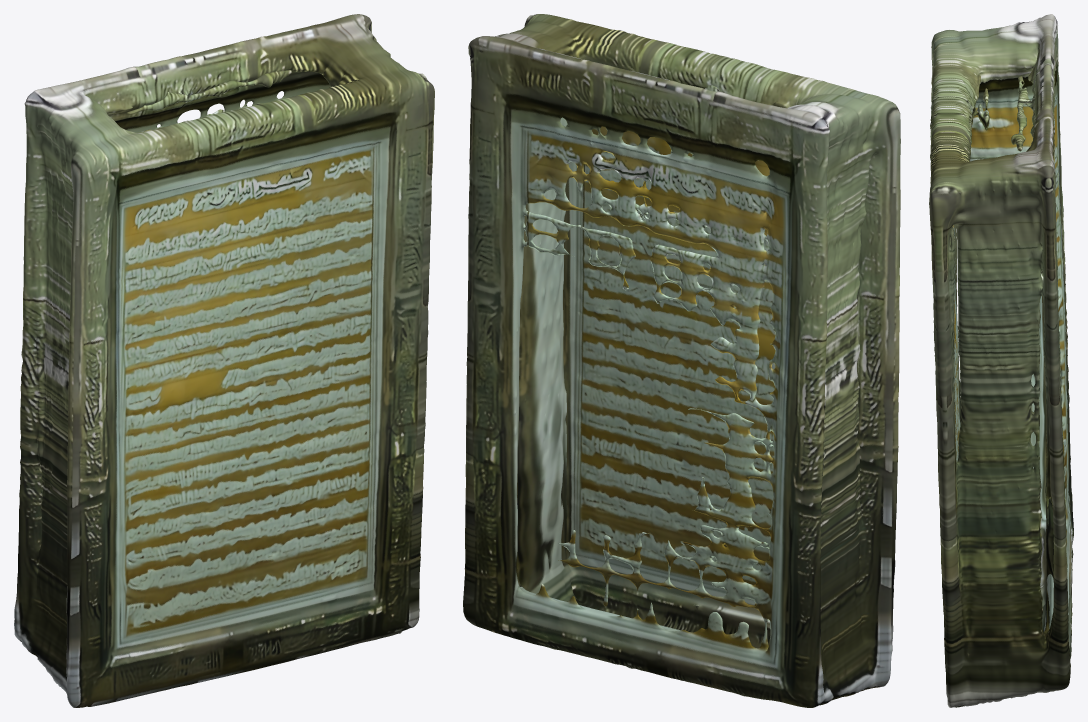
Rendered from kfl-2188.glb.
3 renders of one model, left to right at view 1: azimuth 30°, elevation 25°; view 2: azimuth 150°, elevation 25°; view 3: azimuth 270°, elevation 25°, orthographic. The views are drawn at different scales.
Parts seen in each view (by area): view 1: kfl-2188; view 2: kfl-2188; view 3: kfl-2188.
Boxes of the visible parts, box(x1,y1,x2,y2) form: kfl-2188: box(14, 14, 434, 707); kfl-2188: box(463, 14, 900, 707); kfl-2188: box(929, 14, 1073, 707).
Bounding box in the file's own units: 0.6446 × 0.9979 × 0.2377.
1 material, 1 textured.
